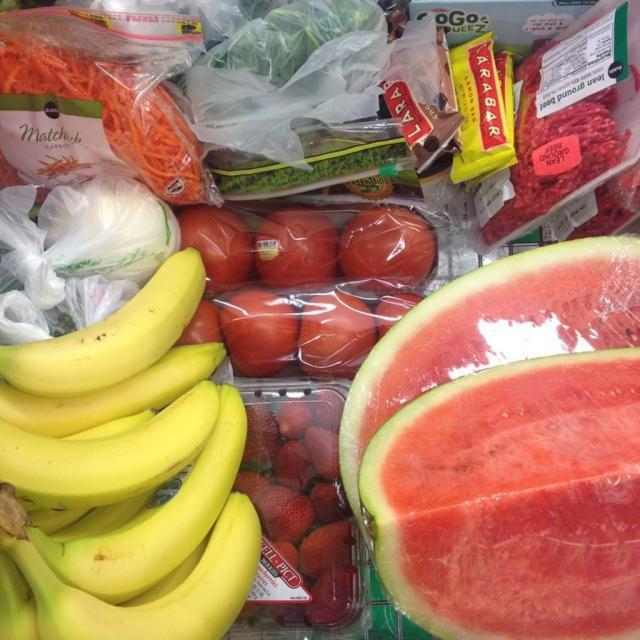Watermelon: (334, 234, 639, 550), (359, 347, 639, 639)
